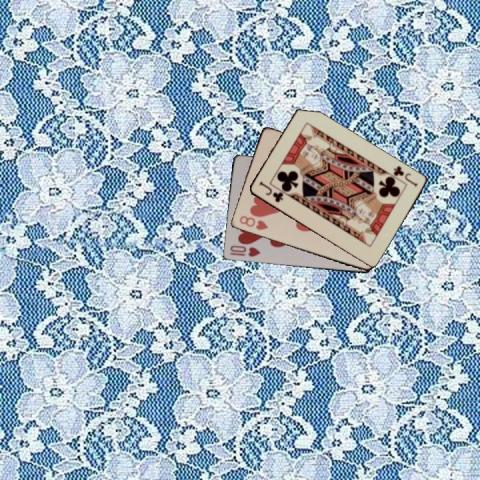10h: (227, 243, 261, 258)
8h: (236, 213, 269, 231)
Jc: (390, 162, 419, 188), (256, 179, 284, 204)
